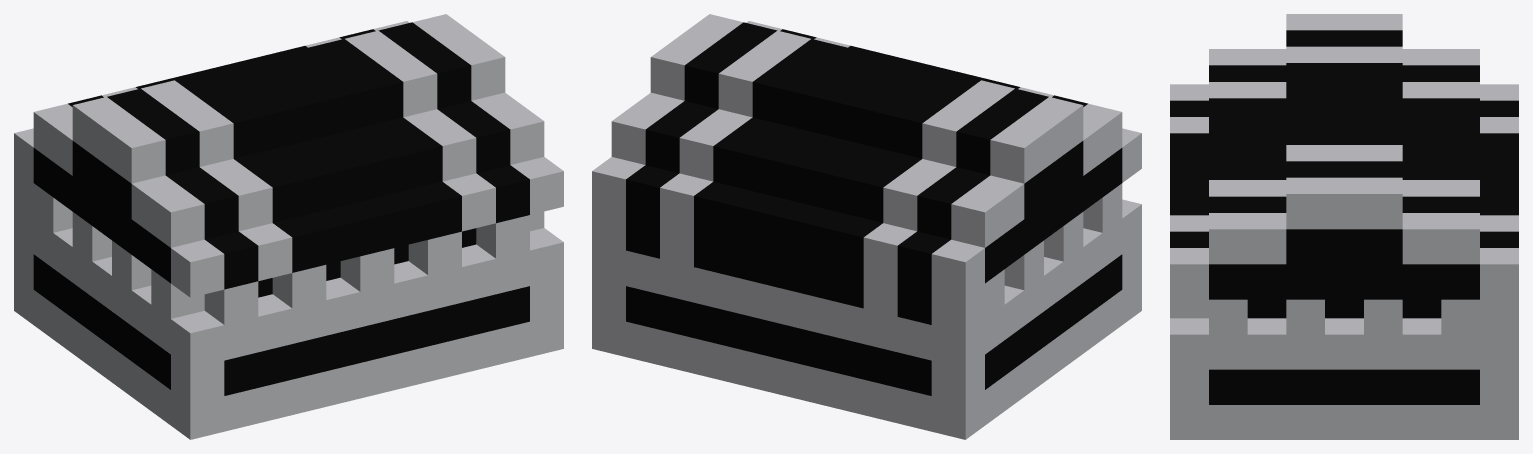
Rendered from mimic_h_action_1.obj.
The picture shows the model from 3 angles, left to right: view 1: azimuth 30°, elevation 25°; view 2: azimuth 150°, elevation 25°; view 3: azimuth 270°, elevation 25°; orthographic projection.
Bounding box in the file's own units: 1.1 × 0.7 × 0.9.
1 material, 1 textured.
